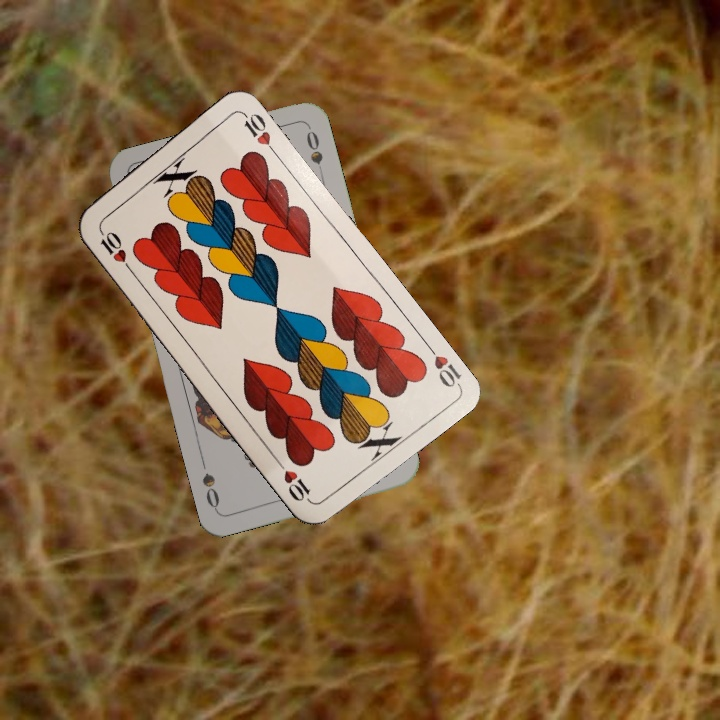H10: (420, 338, 464, 391), (94, 224, 136, 275)
